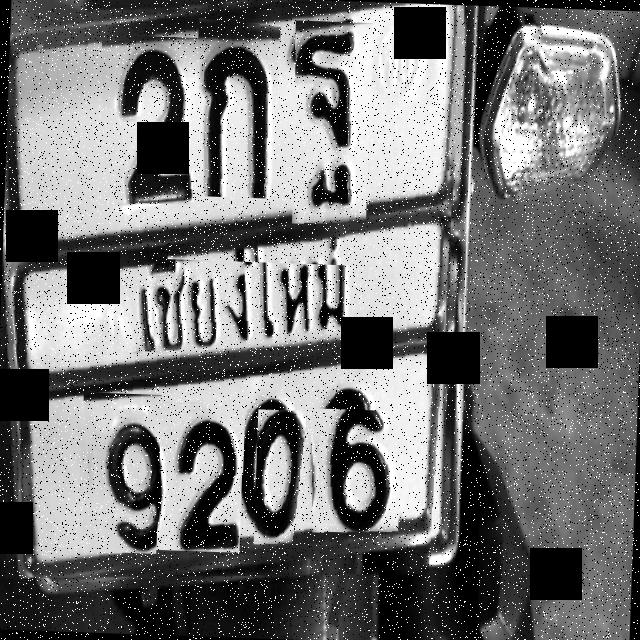letters: (96, 35, 199, 206), (288, 19, 372, 226), (192, 18, 281, 198), (156, 400, 246, 552), (78, 392, 161, 554), (306, 408, 402, 535), (253, 409, 307, 547)
license-plate: (7, 0, 464, 578)
province: (112, 256, 411, 362)
